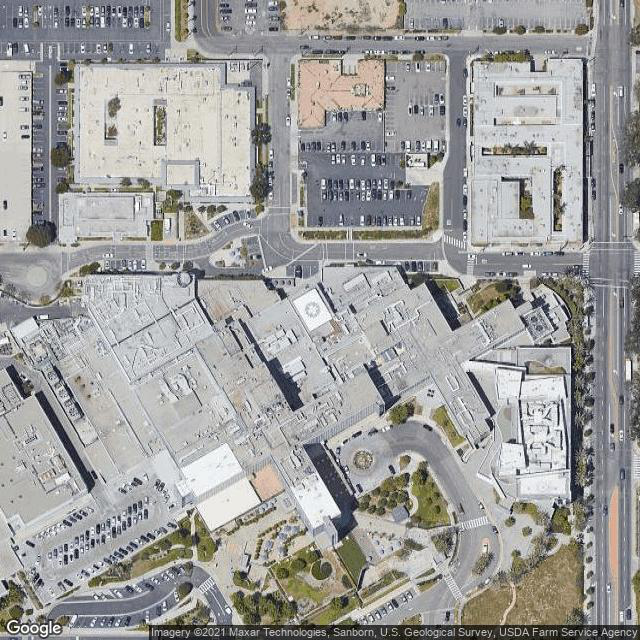Helipad: (299, 296, 328, 323)
